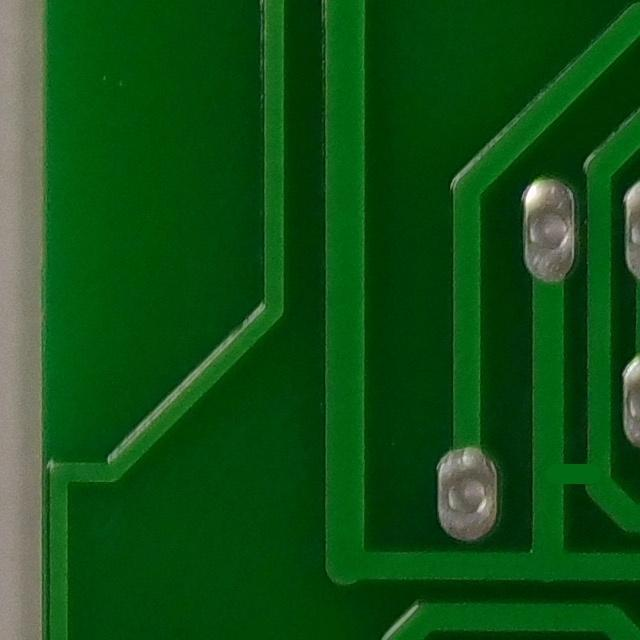short: (512, 434, 619, 514)
